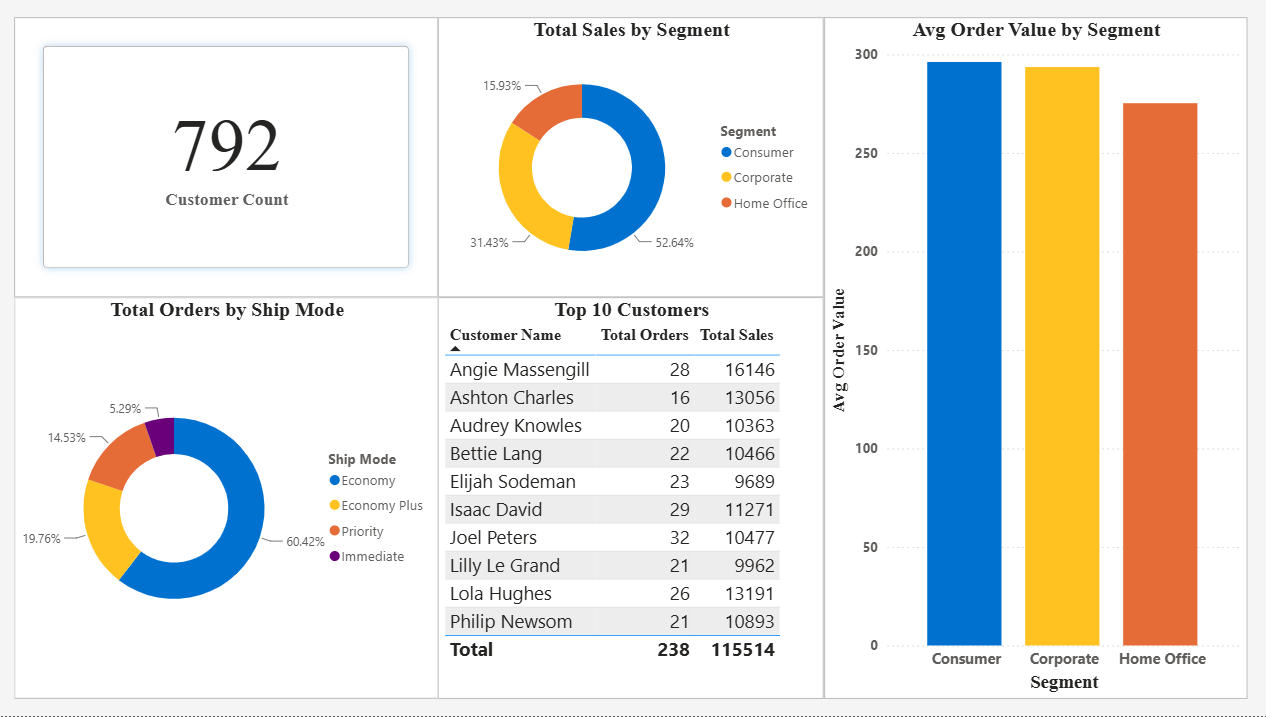

The page's visual inventory and layout, read from the dashboard file:
{"tool":"powerbi","page":{"name":"Customer Insights","canvas":[1280,720],"ordinal":2},"visuals":[{"type":"donutChart","fields":{"Category":["Sheet1.Segment"],"Y":["Sheet1.Total Sales"]},"box":[450,21.4,385.7,280],"z":0},{"type":"tableEx","title":"Top 10 Customers","fields":{"Values":["Sheet1.Customer Name","Sheet1.Total Orders","Sheet1.Total Sales"]},"box":[450,301.4,385.7,401.4],"z":1000},{"type":"donutChart","fields":{"Y":["Sheet1.Total Orders"],"Category":["Sheet1.Ship Mode"]},"box":[25.7,301.4,424.3,401.4],"z":2000},{"type":"cardVisual","fields":{"Data":["Sheet1.Customer Count"]},"box":[25.7,21.4,424.3,280],"z":3000},{"type":"columnChart","fields":{"Y":["Sheet1.Avg Order Value"],"Category":["Sheet1.Segment"]},"box":[835.7,21.4,422.9,681.4],"z":4000}]}

Visuals, with their boxes in screenshot pixels (x1, y1, x2, y2), scaled from the page's 1280x720 canvas onto the 1266x717 screenshot:
donutChart - Sheet1.Segment x Sheet1.Total Sales: region(445, 21, 827, 300)
"Top 10 Customers" tableEx: region(445, 300, 827, 700)
donutChart - Sheet1.Total Orders x Sheet1.Ship Mode: region(25, 300, 445, 700)
cardVisual - Sheet1.Customer Count: region(25, 21, 445, 300)
columnChart - Sheet1.Avg Order Value x Sheet1.Segment: region(827, 21, 1245, 700)
